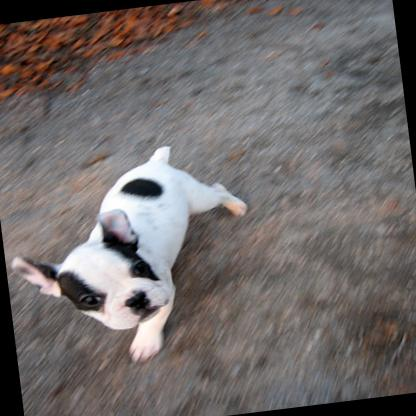French_bulldog: (0, 132, 268, 381)
